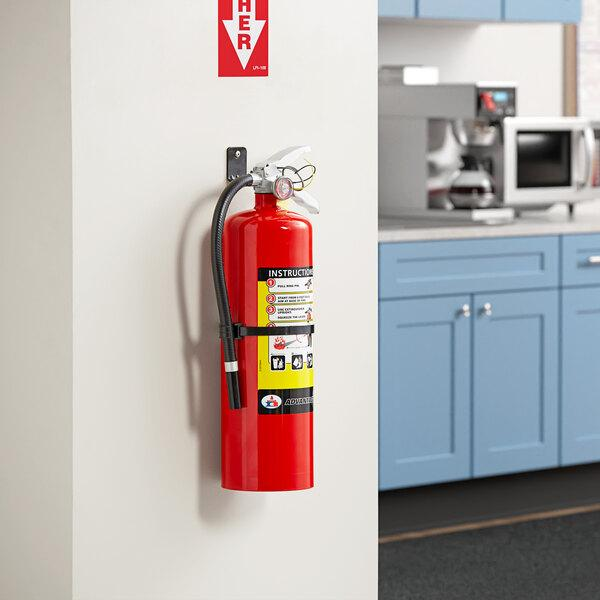wall-mounted: (189, 128, 346, 521)
